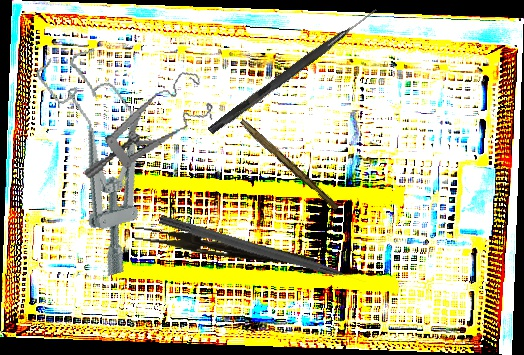Dressing Forceps: (132, 225, 317, 269)
Hook Surgical: (207, 4, 379, 137), (157, 213, 368, 290)
Scalpel Handle: (236, 118, 342, 212)
Speculum: (32, 41, 173, 281), (66, 67, 223, 181)
